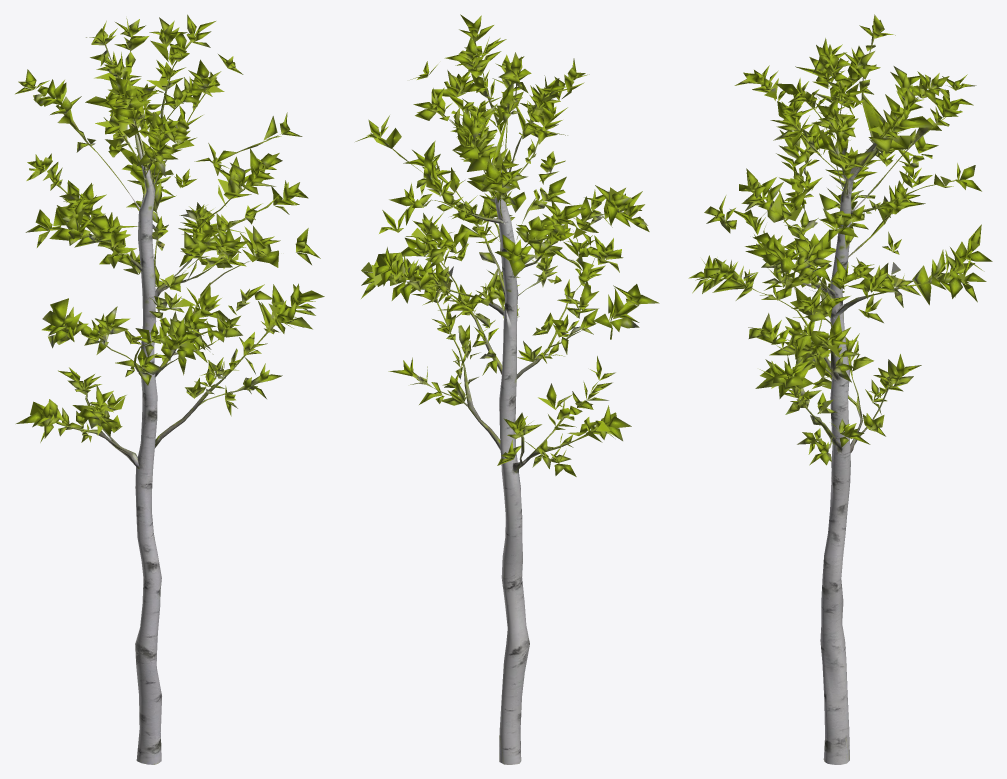
File: birch-tree.glb
3 views of the same model, side by side, from view 1: azimuth 30°, elevation 25°; view 2: azimuth 150°, elevation 25°; view 3: azimuth 270°, elevation 25° (orthographic).
Size of the model in its own units: 0.3833 by 0.9517 by 0.3555.
1 material, 1 textured.
